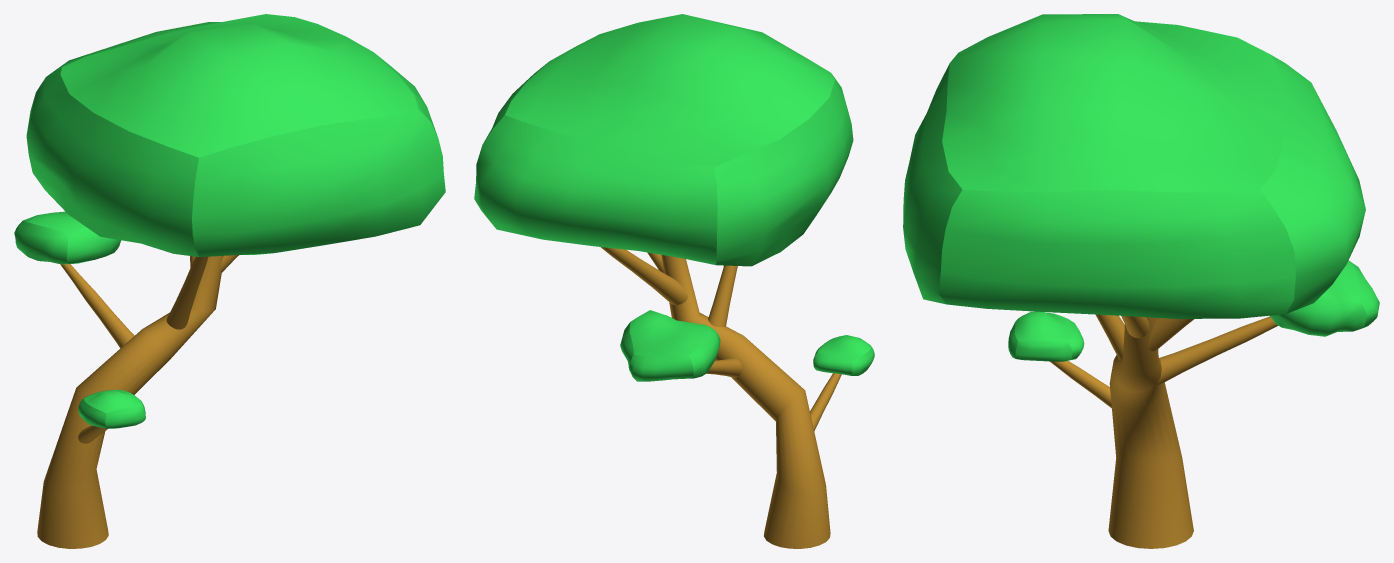
Rendered from basic tree_05.fbx.
The picture shows the model from 3 angles, left to right: view 1: azimuth 30°, elevation 25°; view 2: azimuth 150°, elevation 25°; view 3: azimuth 270°, elevation 25°; orthographic projection. The views are drawn at different scales.
Visible parts, largest first — view 1: Leaves_main, Tree_Body2, leaves_02, leaves_01, branch07, branch02; view 2: Leaves_main, Tree_Body2, leaves_02, leaves_01, branch06, branch02, branch05, branch07; view 3: Leaves_main, Tree_Body2, leaves_02, leaves_01, branch07, branch05, branch06, branch02.
Boxes of the visible parts, box(x1,y1,x2,y2) form: Leaves_main: box(26, 14, 445, 257); Tree_Body2: box(37, 256, 223, 548); leaves_02: box(14, 211, 121, 264); leaves_01: box(78, 389, 145, 428); branch07: box(60, 264, 134, 348); branch02: box(166, 256, 208, 329); Leaves_main: box(474, 14, 853, 266); Tree_Body2: box(661, 255, 830, 548); leaves_02: box(620, 310, 720, 381); leaves_01: box(813, 335, 874, 375); branch06: box(600, 247, 688, 305); branch02: box(708, 265, 737, 326); branch05: box(810, 373, 841, 430); branch07: box(706, 358, 741, 377); Leaves_main: box(903, 14, 1365, 318); Tree_Body2: box(1108, 317, 1193, 548); leaves_02: box(1269, 260, 1379, 336); leaves_01: box(1008, 311, 1084, 361); branch07: box(1157, 316, 1277, 385); branch05: box(1050, 361, 1111, 408); branch06: box(1148, 318, 1194, 351); branch02: box(1096, 314, 1124, 359).
Size of the model in its own units: 21.67 by 29.41 by 22.17.
